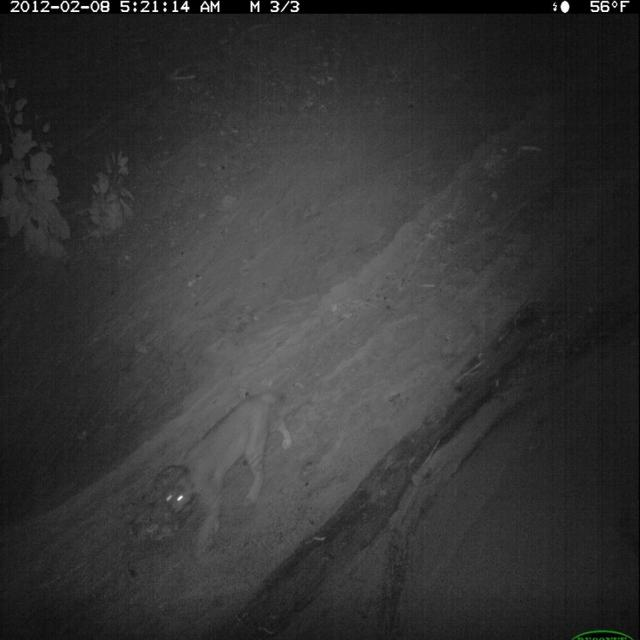bobcat: (157, 385, 298, 565)
